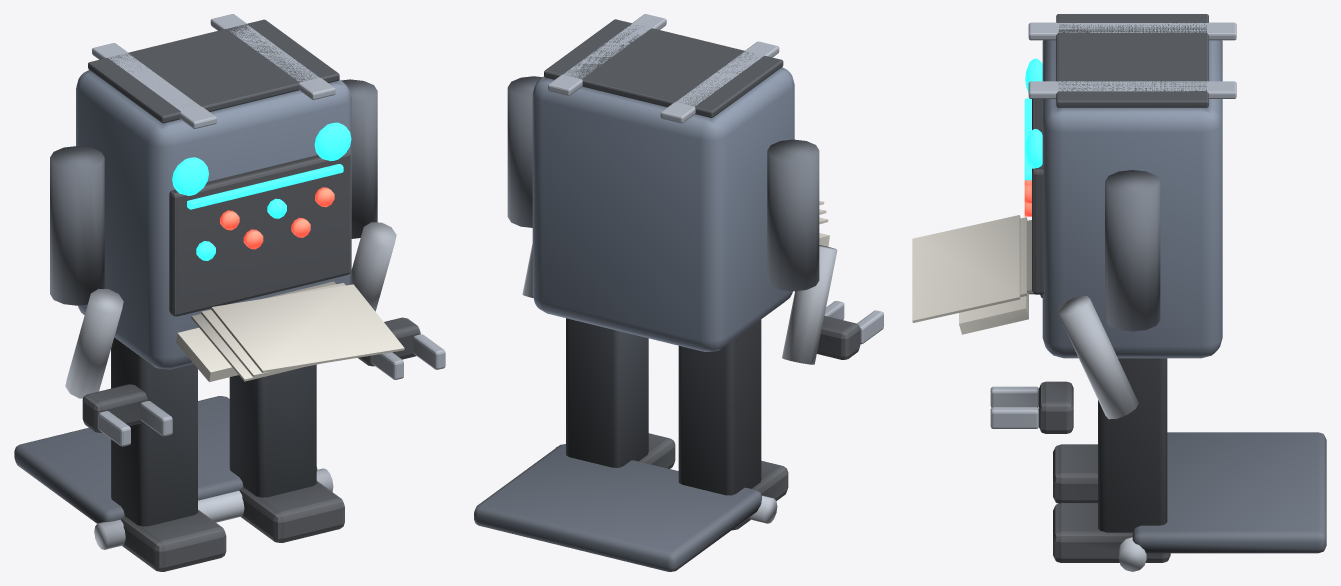
3 renders of one model, left to right at view 1: azimuth 30°, elevation 25°; view 2: azimuth 150°, elevation 25°; view 3: azimuth 270°, elevation 25°, orthographic. The views are drawn at different scales.
Parts seen in each view (by area): view 1: torso, legR, armR, legL, jaw, armL; view 2: torso, jaw, legR, armR, legL, armL; view 3: torso, jaw, armL, legL, legR.
Boxes of the visible parts, <box> form: torso: <box>76,14,404,382</box>; legR: <box>111,337,226,571</box>; armR: <box>50,146,172,446</box>; legL: <box>229,364,344,542</box>; jaw: <box>14,396,333,549</box>; armL: <box>341,79,445,379</box>; torso: <box>532,14,829,351</box>; jaw: <box>474,444,777,571</box>; legR: <box>678,319,788,530</box>; armR: <box>767,139,883,364</box>; legL: <box>566,318,675,468</box>; armL: <box>507,76,542,297</box>; torso: <box>912,14,1236,358</box>; jaw: <box>1118,432,1326,571</box>; armL: <box>990,170,1160,433</box>; legL: <box>1053,358,1170,562</box>; legR: <box>1053,444,1097,503</box>.
Size of the model in its own units: 0.55 by 0.736 by 0.598.
